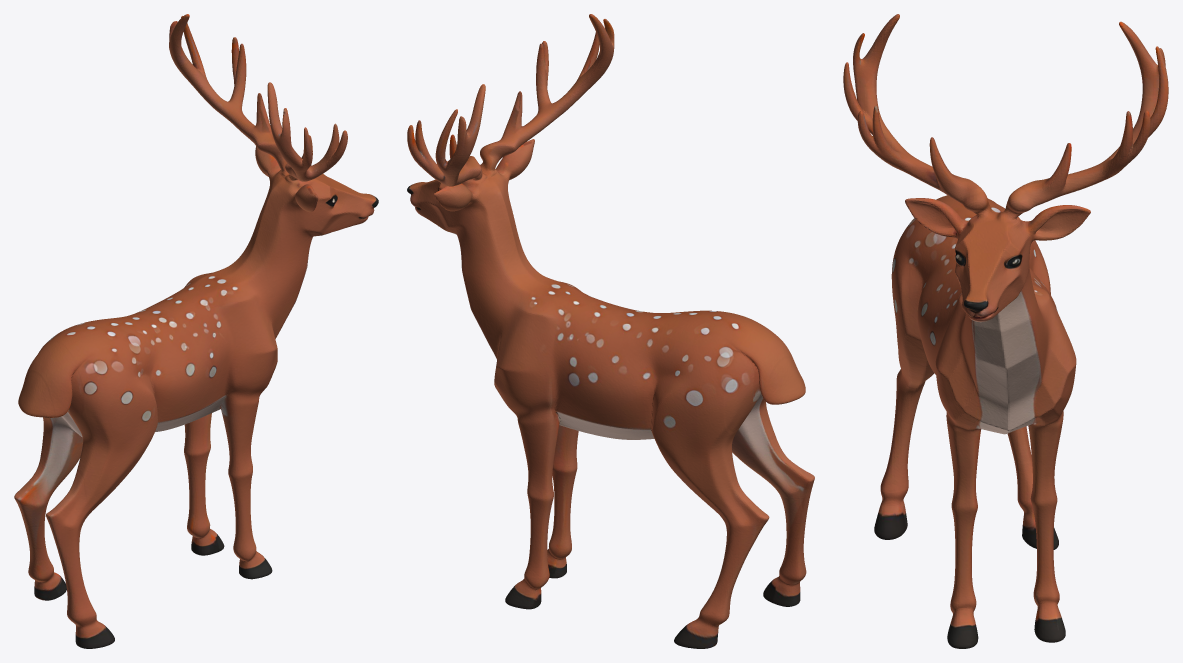
Rendered from asset.glb.
The picture shows the model from 3 angles, left to right: view 1: azimuth 30°, elevation 25°; view 2: azimuth 150°, elevation 25°; view 3: azimuth 270°, elevation 25°; orthographic projection. The views are drawn at different scales.
Visible parts, largest first — view 1: tripo_node_6cc4e3ab-b26a-4073-b8a0-12c2e2934d1d; view 2: tripo_node_6cc4e3ab-b26a-4073-b8a0-12c2e2934d1d; view 3: tripo_node_6cc4e3ab-b26a-4073-b8a0-12c2e2934d1d.
Boxes of the visible parts, box(x1,y1,x2,y2) form: tripo_node_6cc4e3ab-b26a-4073-b8a0-12c2e2934d1d: box(14, 14, 378, 648); tripo_node_6cc4e3ab-b26a-4073-b8a0-12c2e2934d1d: box(407, 14, 814, 648); tripo_node_6cc4e3ab-b26a-4073-b8a0-12c2e2934d1d: box(843, 14, 1168, 648).
Size of the model in its own units: 0.7384 by 1 by 0.4742.
Materials: 1 (1 with a texture image).
